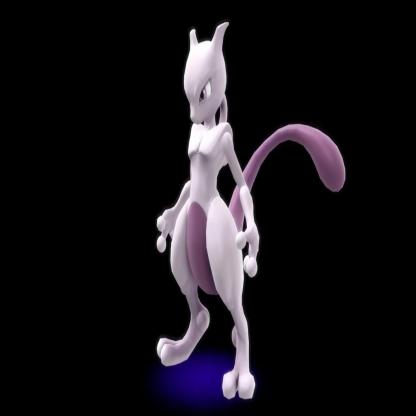Mewtwo: (92, 43, 331, 416)
